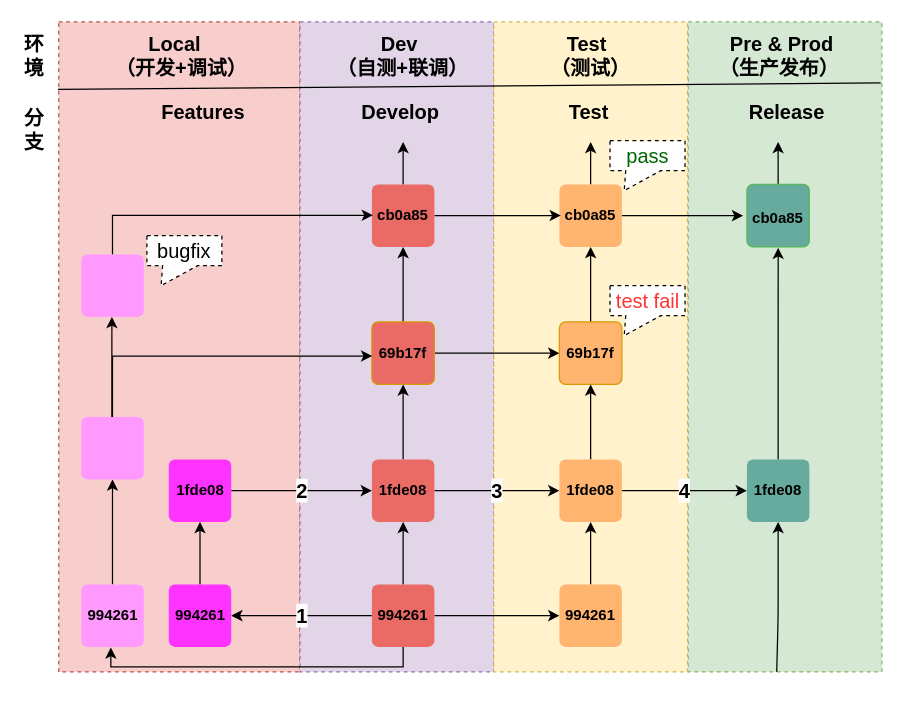
Some shapes in this 904 by 704 pixel diagram are drawn without their labels. Here are the shapes that lost their labels. From the top down, the centre of each, then its label:
At (x=112, y=285): "c94a13".
At (x=112, y=447): "113efb".
